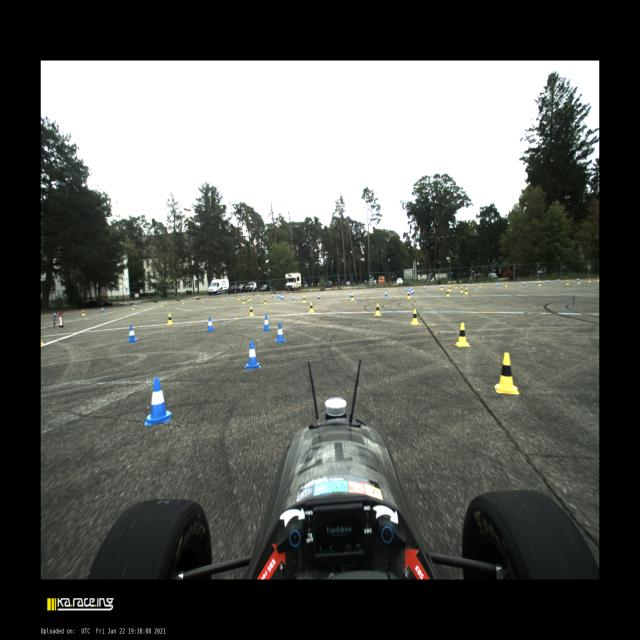blue_cone: (146, 378, 172, 426), (245, 341, 261, 370), (276, 323, 286, 343), (128, 326, 138, 343), (262, 315, 270, 331), (207, 317, 214, 331), (384, 290, 388, 297), (350, 291, 353, 298), (292, 294, 295, 300), (522, 280, 525, 286), (317, 294, 320, 299), (101, 307, 104, 312), (423, 285, 426, 290), (280, 294, 282, 300), (410, 290, 412, 296), (412, 288, 414, 294), (272, 293, 274, 298), (277, 293, 279, 298), (282, 295, 284, 300), (405, 287, 407, 292), (547, 279, 549, 284), (135, 304, 137, 308), (227, 296, 229, 300), (409, 288, 411, 292), (464, 283, 466, 287), (496, 282, 498, 286), (538, 280, 540, 284), (558, 278, 560, 282), (242, 295, 244, 298), (411, 287, 412, 292), (206, 297, 207, 301), (258, 294, 259, 298), (279, 294, 280, 298), (577, 278, 578, 281)
yellow_cone: (495, 354, 519, 394), (455, 322, 470, 347), (410, 308, 420, 326), (166, 312, 174, 326), (374, 303, 382, 316), (248, 306, 254, 316), (309, 302, 314, 313), (406, 291, 411, 300), (350, 294, 354, 302), (264, 298, 268, 304), (446, 290, 450, 296), (440, 285, 444, 291), (448, 286, 452, 291), (303, 296, 306, 302), (82, 310, 85, 316), (242, 298, 245, 304), (460, 286, 463, 292), (465, 288, 468, 294), (504, 282, 508, 286), (132, 305, 135, 310), (160, 302, 163, 307), (222, 296, 225, 301), (455, 284, 458, 289), (538, 281, 541, 286), (566, 280, 569, 285), (41, 338, 43, 345), (237, 296, 240, 300), (479, 282, 481, 288), (588, 278, 591, 282), (248, 296, 250, 301), (578, 279, 580, 284), (598, 277, 600, 282), (182, 300, 184, 304), (202, 298, 204, 302), (250, 296, 252, 300)
